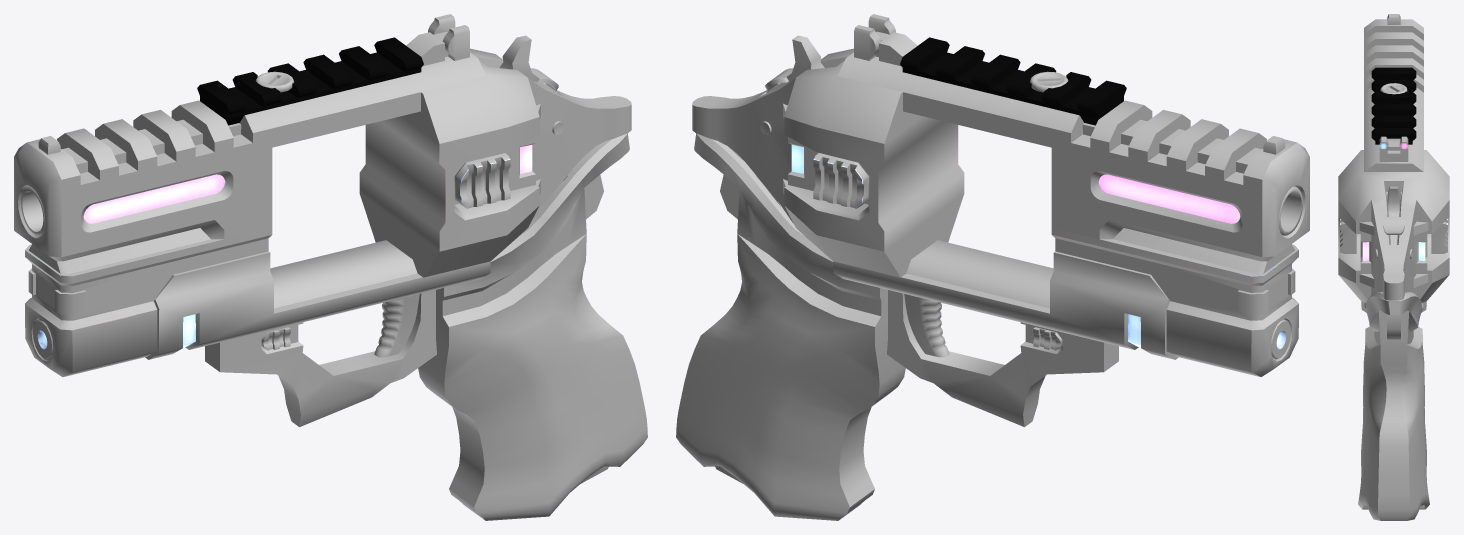
File: Revolver_SM.FBX
3 views of the same model, side by side, from view 1: azimuth 30°, elevation 25°; view 2: azimuth 150°, elevation 25°; view 3: azimuth 270°, elevation 25° (orthographic). The views are drawn at different scales.
Parts seen in each view (by area): view 1: Revolver_SM; view 2: Revolver_SM; view 3: Revolver_SM.
Part boxes in pixels (left/top/right/bottom): Revolver_SM: left=14, top=14, right=647, bottom=520; Revolver_SM: left=676, top=14, right=1309, bottom=520; Revolver_SM: left=1338, top=14, right=1449, bottom=520.
Bounding box in the file's own units: 68.78 × 53.94 × 15.77.
